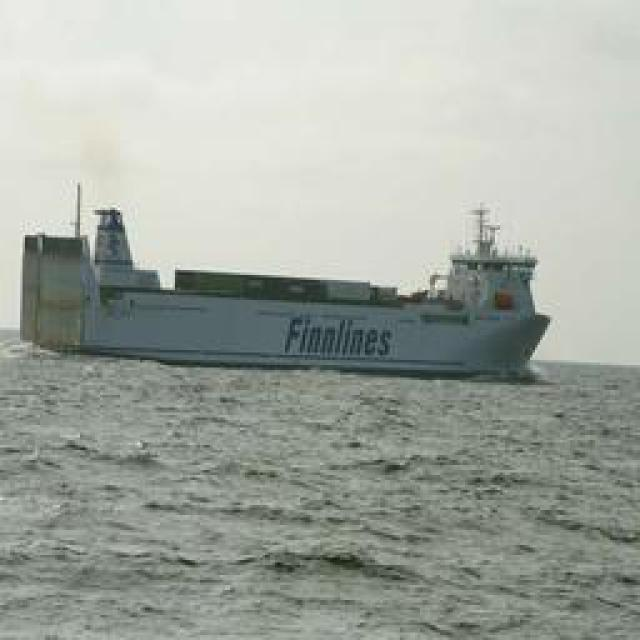Ship: (16, 204, 549, 377)
